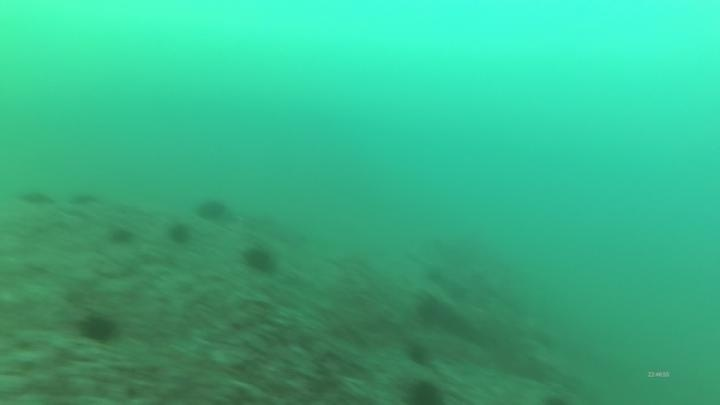echinus: (76, 310, 121, 346), (240, 242, 280, 277), (403, 377, 446, 404), (413, 292, 446, 327), (194, 195, 231, 224), (15, 185, 57, 210), (68, 188, 110, 213), (404, 340, 434, 368), (165, 219, 194, 247), (106, 223, 137, 249)
